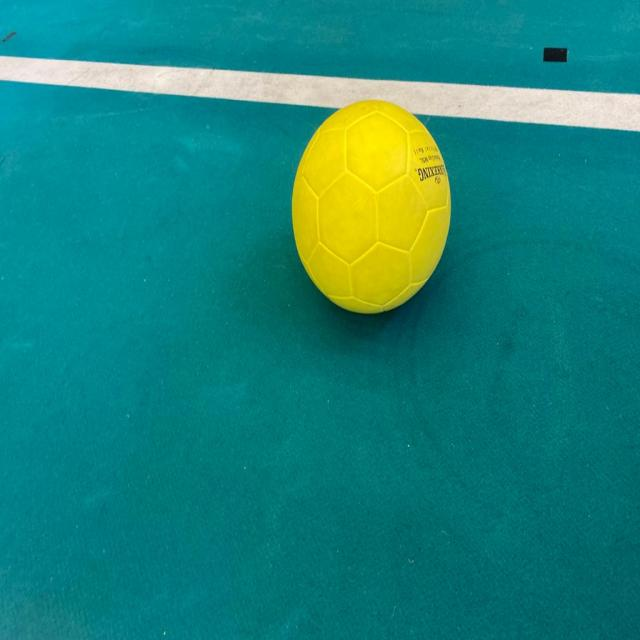ball: (278, 88, 462, 329)
